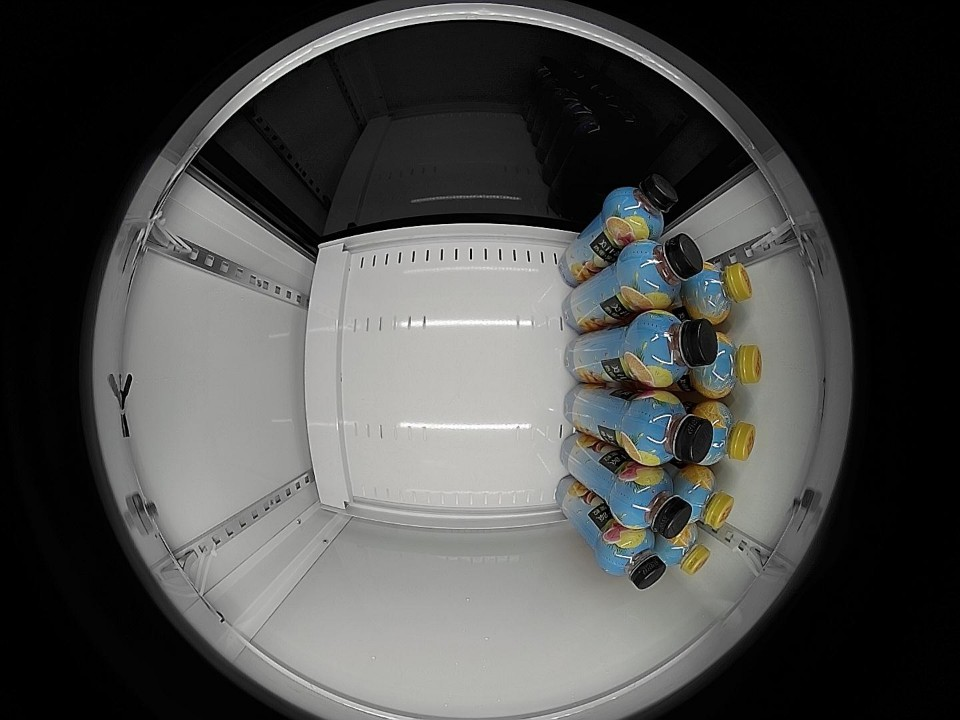guolicheng: (695, 332, 763, 398), (687, 261, 753, 324), (696, 400, 756, 465), (675, 466, 735, 531), (657, 522, 711, 576)
guolicheng2: (629, 311, 719, 388), (625, 392, 715, 466), (619, 234, 704, 310), (612, 466, 693, 539), (604, 174, 678, 243), (598, 526, 667, 589)
